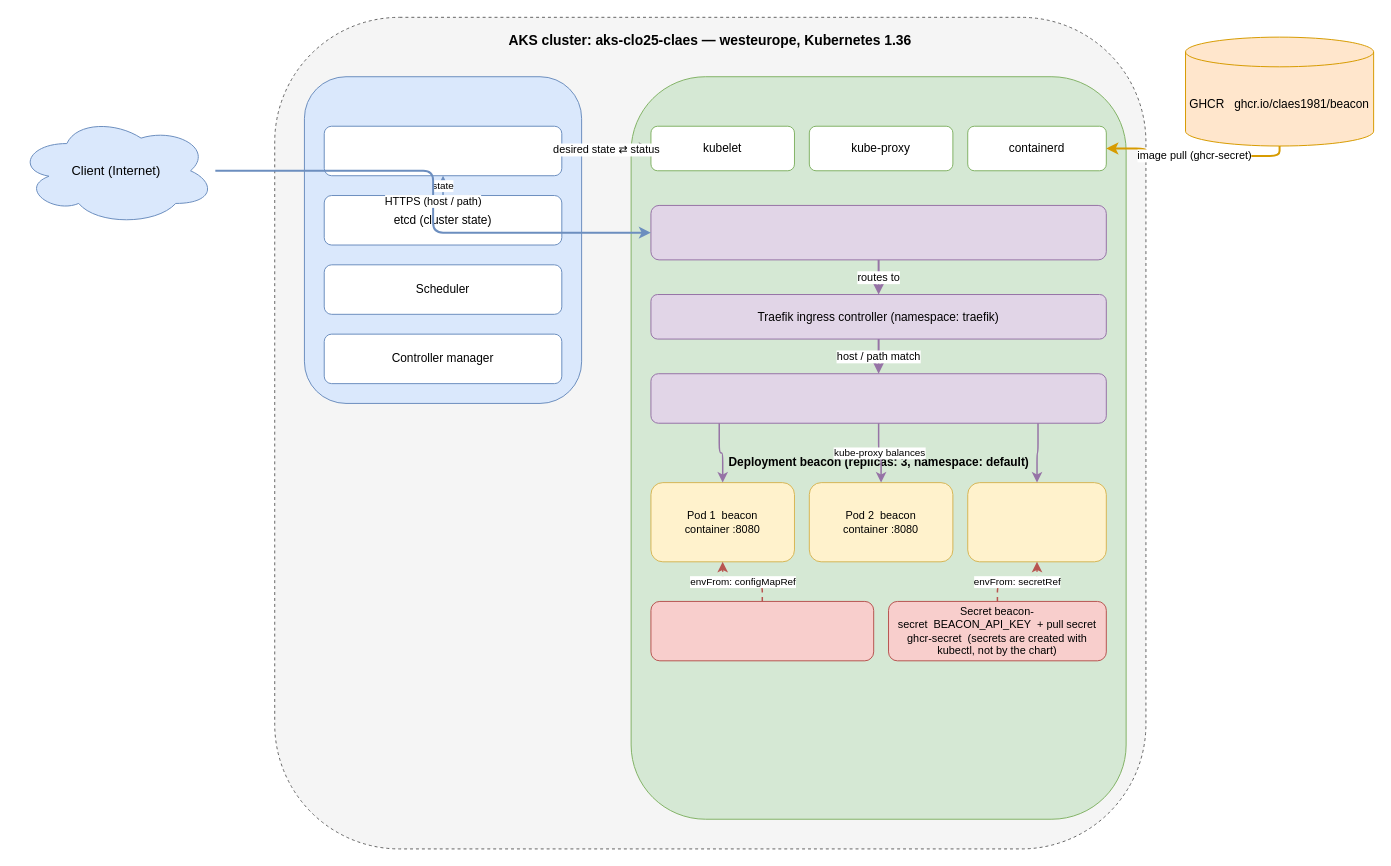
Image size: 1391x866. Some labels were removed from this diagram. The shapes that lost their labels are listed below. From the top down, each one's box as (x1, y1, x2, y2) in pixels, then its label:
(323, 125, 562, 176): Kubernetes API server
(303, 76, 582, 403): Control plane (managed by Azure)
(650, 204, 1106, 260): Ingress beacon (path /) → Traefik LoadBalancer Service → public IP
(650, 373, 1106, 423): Service beacon — ClusterIP, port 80 → targetPort 8080
(630, 76, 1126, 819): Node: Standard_D2as_v7 (2 vCPU, 8 GiB) — one node pool
(967, 482, 1106, 562): Pod 3 beacon container :8080
(650, 600, 874, 661): ConfigMap beacon-config BEACON_ENVIRONMENT, BEACON_MESSAGE
